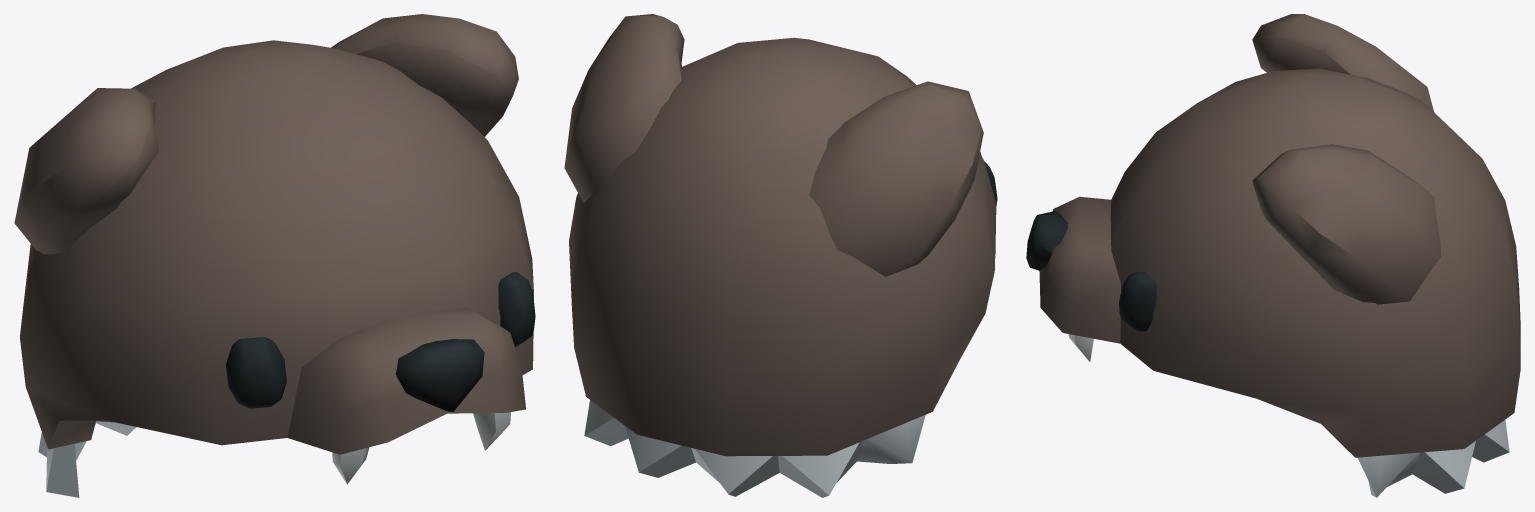
File: helmet_barbarian-UJOKi7US.glb
3 renders of one model, left to right at view 1: azimuth 30°, elevation 25°; view 2: azimuth 150°, elevation 25°; view 3: azimuth 270°, elevation 25°, orthographic. The views are drawn at different scales.
Visible parts, largest first — view 1: Barbarian_Hat; view 2: Barbarian_Hat; view 3: Barbarian_Hat.
Part boxes in pixels (x1,y1,x2,y2): Barbarian_Hat: [14, 14, 535, 497]; Barbarian_Hat: [564, 14, 997, 497]; Barbarian_Hat: [1026, 14, 1520, 497].
Size of the model in its own units: 1.11 by 1.02 by 1.26.
1 material, 1 textured.
